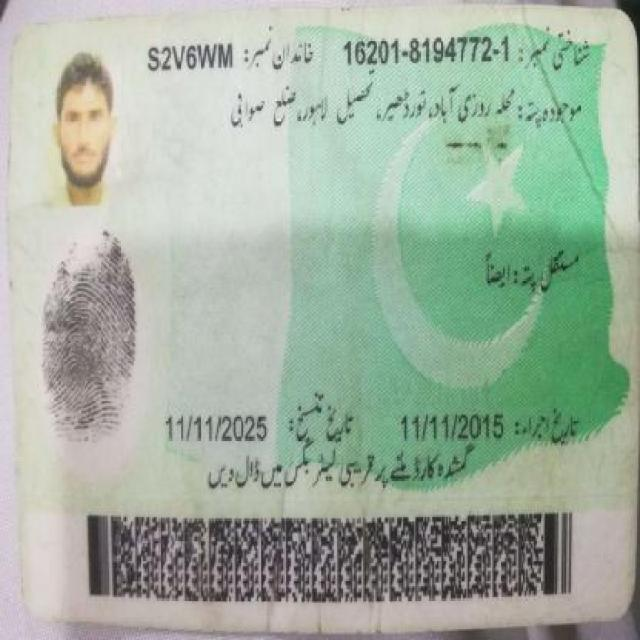Back: (9, 9, 622, 609)
